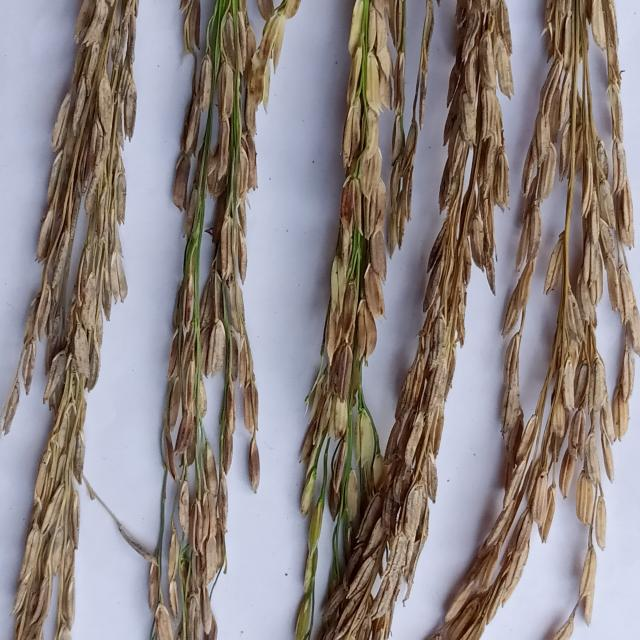Neck_Blast: (394, 0, 639, 640), (316, 0, 519, 635), (0, 0, 145, 640), (152, 0, 294, 634), (294, 1, 419, 619)
